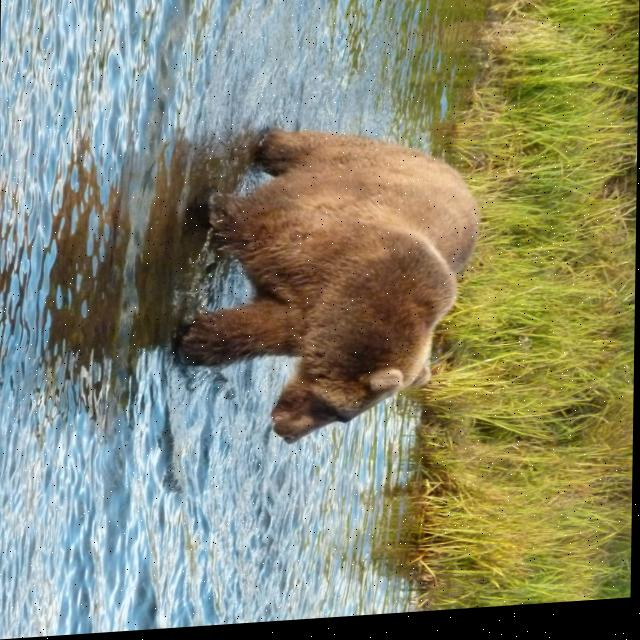bear face: (193, 128, 475, 453)
